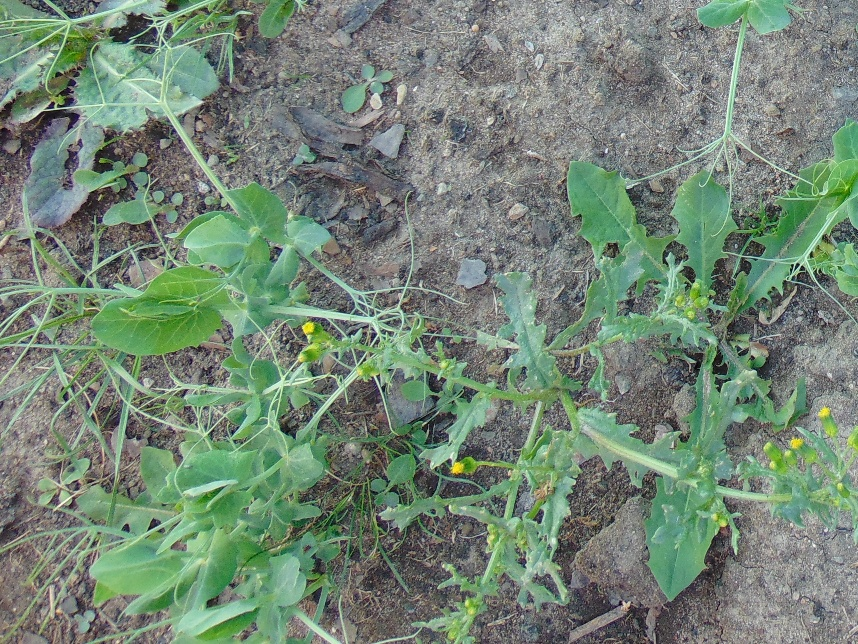crop: (23, 380, 406, 644), (14, 193, 427, 410), (32, 1, 306, 110), (682, 1, 814, 187), (772, 130, 858, 297)
weed: (560, 162, 853, 567), (350, 224, 643, 629), (1, 1, 217, 127), (98, 181, 182, 226), (342, 64, 395, 113)
